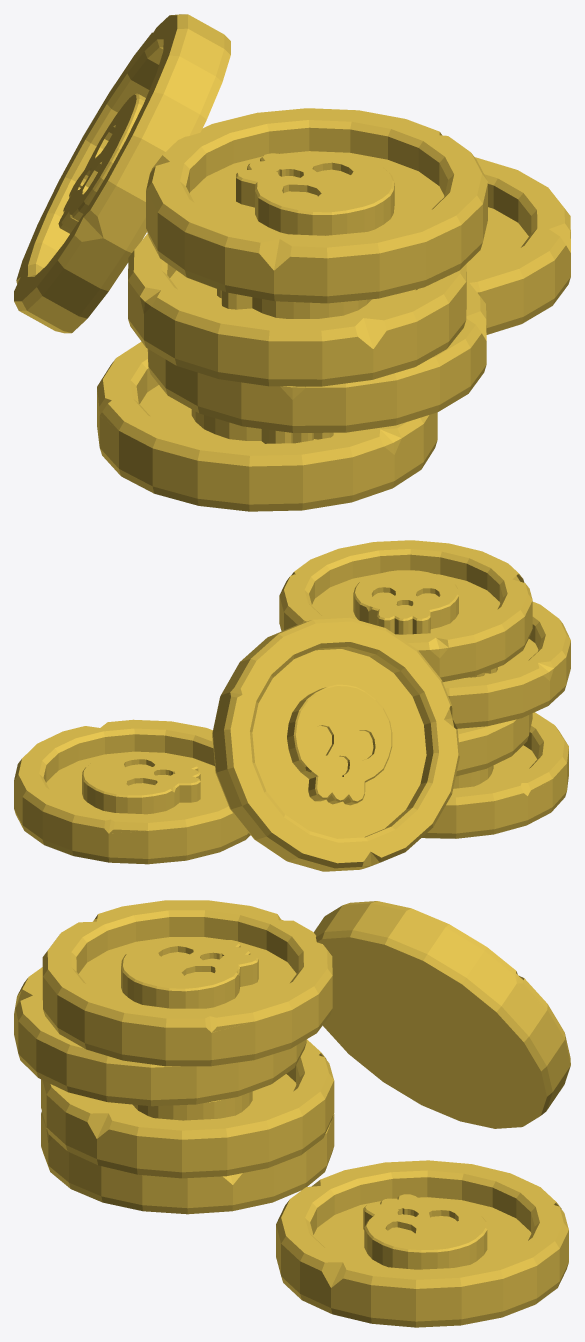
Rendered from coins.glb.
The picture shows the model from 3 angles, top to bottom: view 1: azimuth 30°, elevation 25°; view 2: azimuth 150°, elevation 25°; view 3: azimuth 270°, elevation 25°; orthographic projection. The views are drawn at different scales.
Parts seen in each view (by area): view 1: skull coin reference.003, skull coin reference.005, skull coin reference.002, skull coin reference, skull coin reference.001, skull coin reference.004; view 2: skull coin reference.005, skull coin reference.004, skull coin reference.003, skull coin reference, skull coin reference.002, skull coin reference.001; view 3: skull coin reference.004, skull coin reference.003, skull coin reference.005, skull coin reference.001, skull coin reference.002, skull coin reference.
Boxes of the visible parts, x1=… form: skull coin reference.003: x1=146, y1=108, x2=487, y2=303; skull coin reference.005: x1=14, y1=14, x2=230, y2=333; skull coin reference.002: x1=128, y1=234, x2=466, y2=386; skull coin reference: x1=97, y1=341, x2=437, y2=511; skull coin reference.001: x1=147, y1=280, x2=486, y2=432; skull coin reference.004: x1=466, y1=157, x2=570, y2=334; skull coin reference.005: x1=212, y1=617, x2=459, y2=871; skull coin reference.004: x1=14, y1=719, x2=250, y2=864; skull coin reference.003: x1=279, y1=540, x2=532, y2=681; skull coin reference: x1=422, y1=712, x2=568, y2=838; skull coin reference.002: x1=443, y1=602, x2=570, y2=728; skull coin reference.001: x1=456, y1=713, x2=532, y2=776; skull coin reference.004: x1=276, y1=1160, x2=568, y2=1327; skull coin reference.003: x1=42, y1=900, x2=332, y2=1066; skull coin reference.005: x1=314, y1=901, x2=570, y2=1128; skull coin reference.001: x1=41, y1=1039, x2=334, y2=1178; skull coin reference.002: x1=14, y1=967, x2=306, y2=1106; skull coin reference: x1=41, y1=1111, x2=334, y2=1214.
Bounding box in the file's own units: 3.83 × 1.98 × 3.8.
